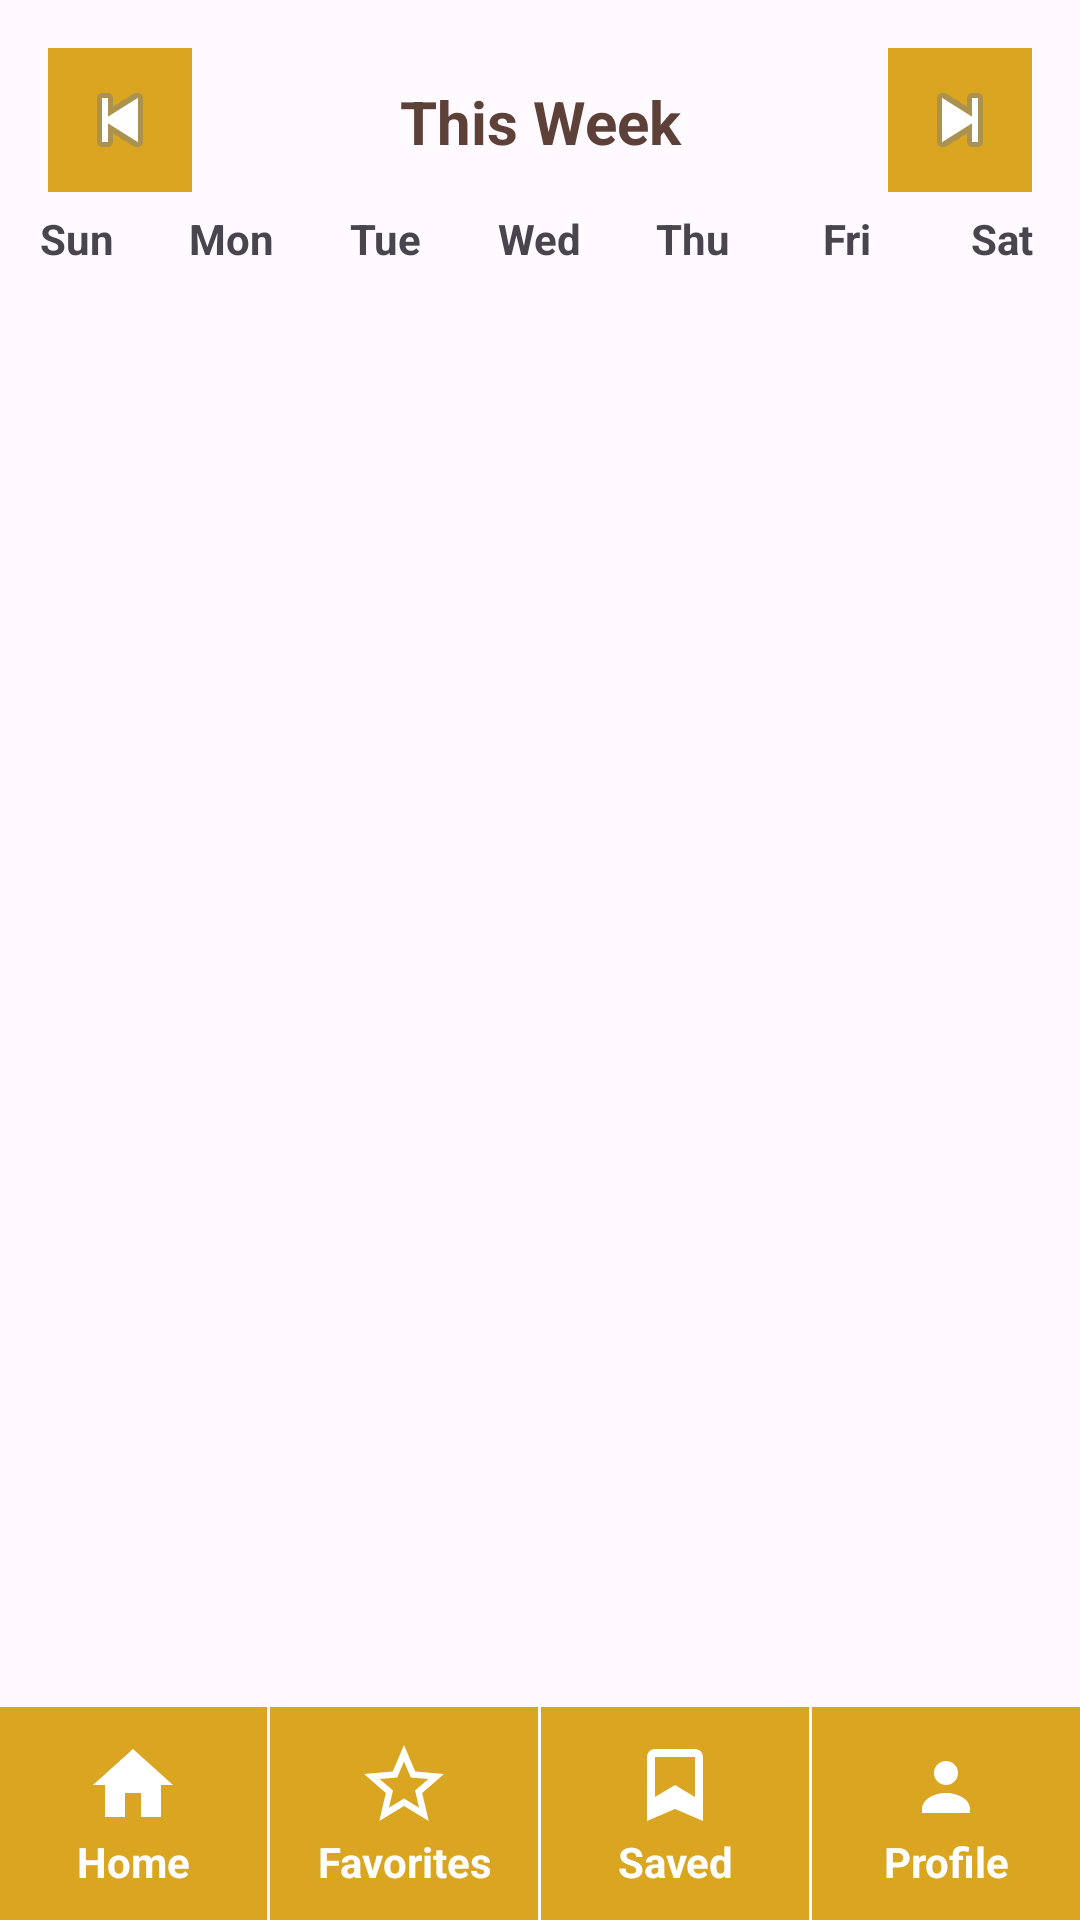

Where icons sit on this 1080w x 1920h app screen, as [x1=x1, y1=y1, x2=x2, y2=y2]:
Next Month: [x1=888, y1=48, x2=1032, y2=192]
Previous Month: [x1=48, y1=48, x2=192, y2=192]
